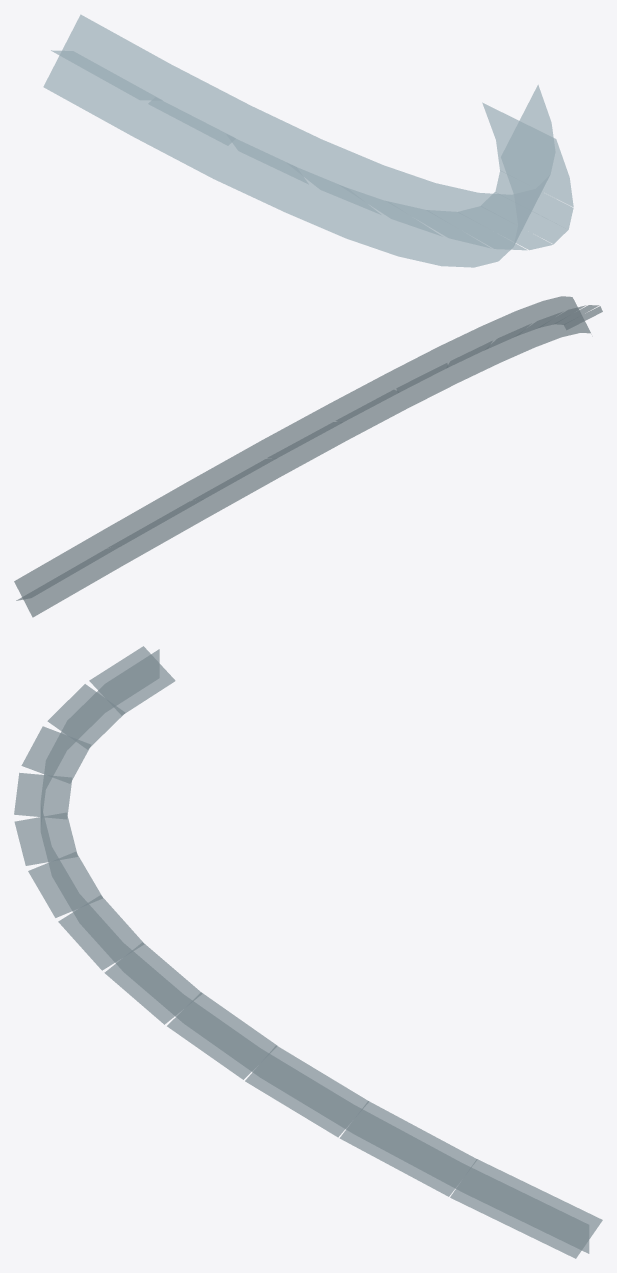
The model's file is wp_water_198.obj.
The picture shows the model from 3 angles, top to bottom: view 1: azimuth 30°, elevation 25°; view 2: azimuth 150°, elevation 25°; view 3: azimuth 270°, elevation 25°; orthographic projection. The views are drawn at different scales.
Bounding box in the file's own units: 0.1437 × 0.0931 × 0.135.
1 material, 1 textured.
